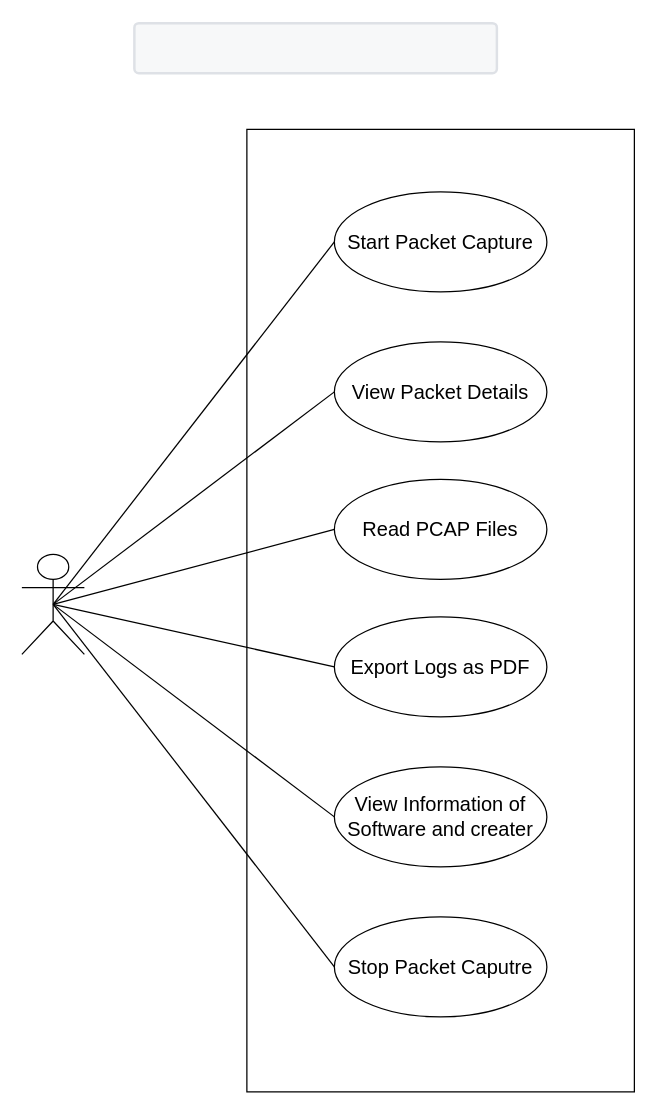
This 656x1114 diagram has some shape labels left out. Each missing label, with the box of its shape:
Use Case Diagram: (132, 21, 498, 74)
User: (21, 553, 84, 654)
